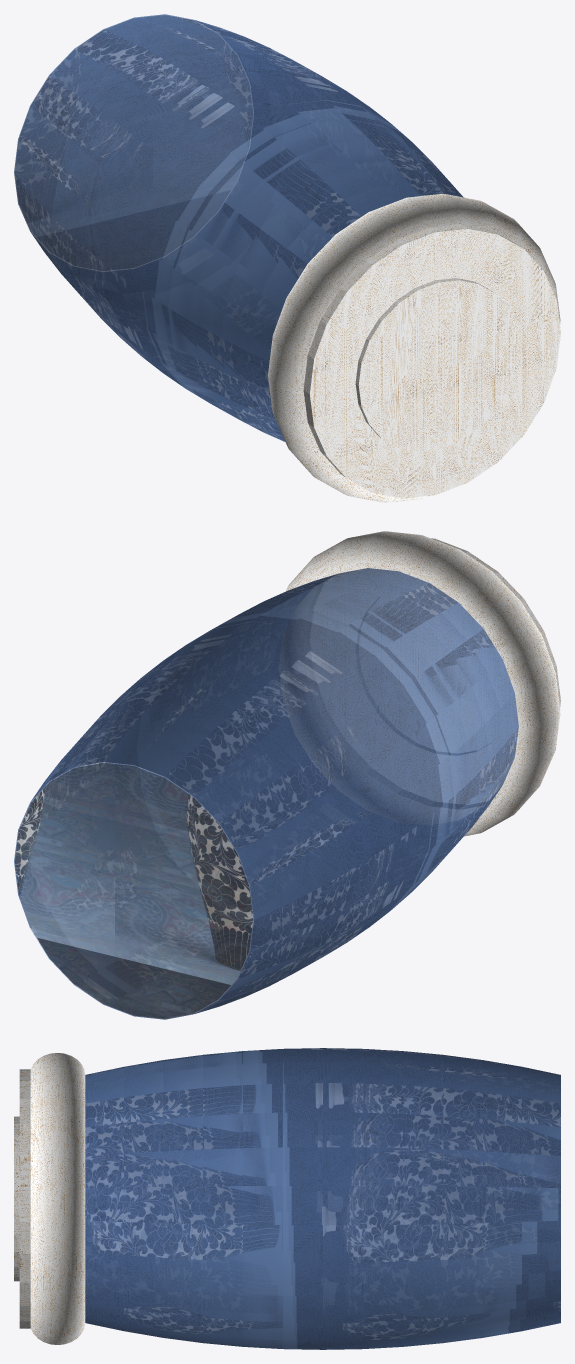
File: model_align.obj
3 views of the same model, one above another, from view 1: azimuth 30°, elevation 25°; view 2: azimuth 150°, elevation 25°; view 3: azimuth 270°, elevation 25° (orthographic). The views are drawn at different scales.
Parts seen in each view (by area): view 1: mesh1_mesh1-geometry; view 2: mesh1_mesh1-geometry, mesh2_mesh2-geometry; view 3: mesh1_mesh1-geometry.
Boxes of the visible parts, box(x1,y1,x2,y2) form: mesh1_mesh1-geometry: box(14, 14, 560, 502); mesh1_mesh1-geometry: box(14, 531, 560, 1019); mesh2_mesh2-geometry: box(15, 762, 253, 1018); mesh1_mesh1-geometry: box(14, 1048, 560, 1349).
Bounding box in the file's own units: 0.0747 × 0.0747 × 0.1349.
